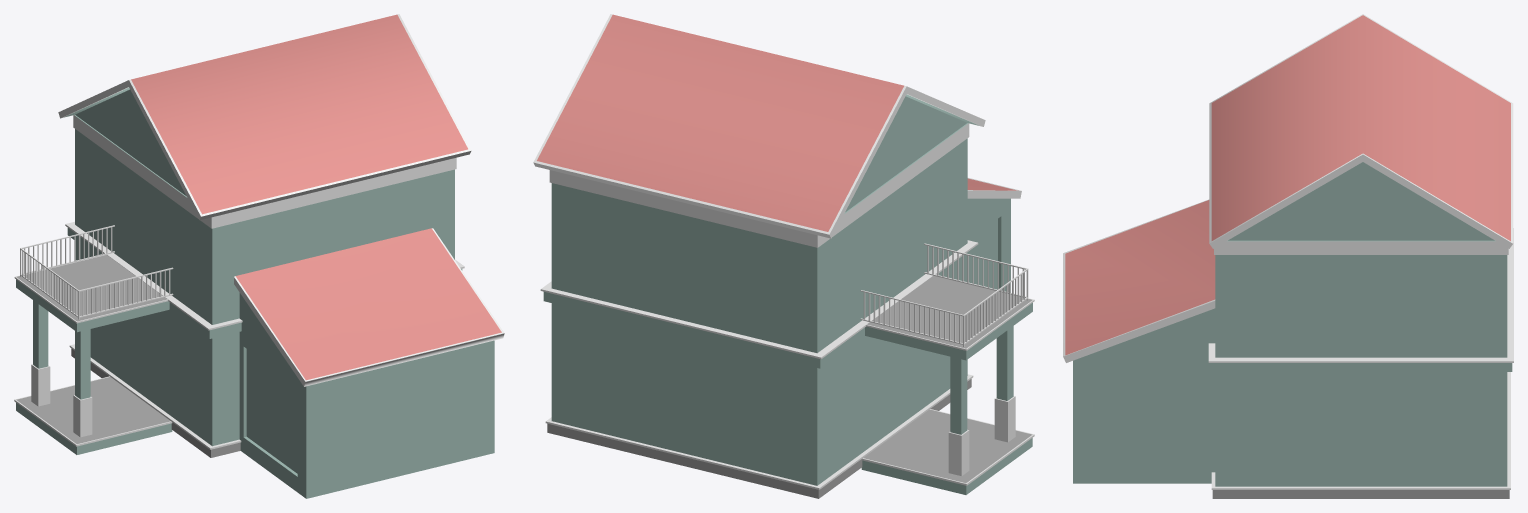
Rendered from Res1.obj.
3 renders of one model, left to right at view 1: azimuth 30°, elevation 25°; view 2: azimuth 150°, elevation 25°; view 3: azimuth 270°, elevation 25°, orthographic. The views are drawn at different scales.
Visible parts, largest first — view 1: Res1; view 2: Res1; view 3: Res1.
Part boxes in pixels (x1,y1,x2,y2): Res1: [14, 14, 504, 498]; Res1: [533, 14, 1034, 498]; Res1: [1063, 14, 1513, 498].
Bounding box in the file's own units: 61.8 × 55.15 × 63.82.
